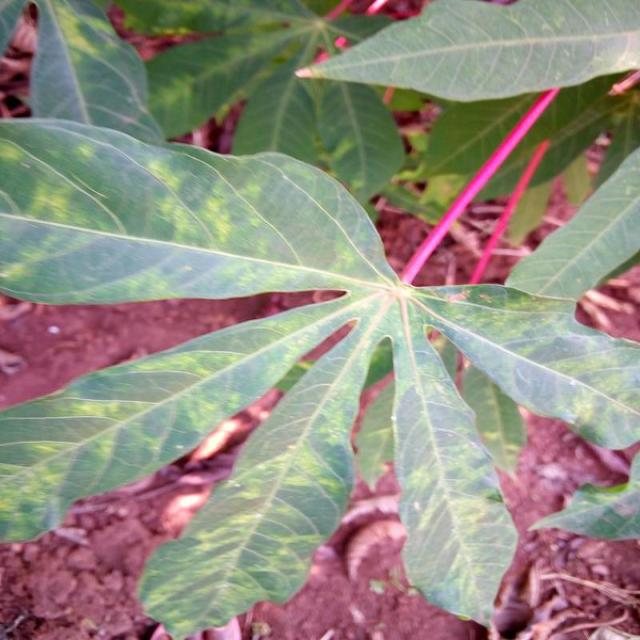cassava leaf: (1, 1, 638, 637), (293, 0, 639, 103)
